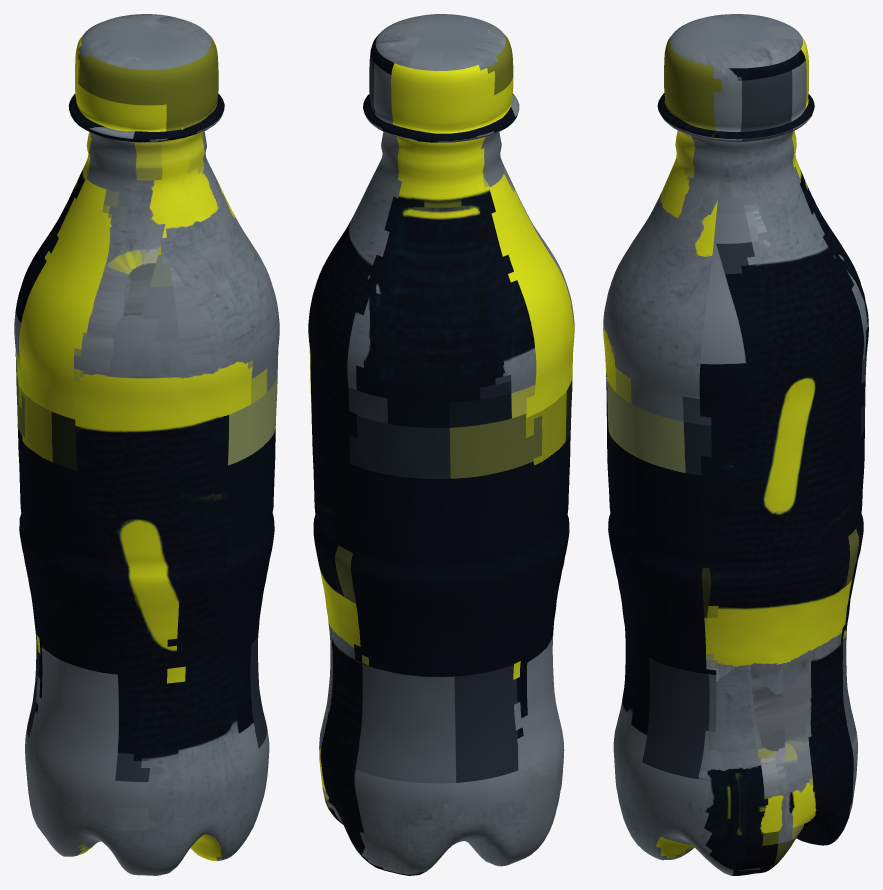
3 renders of one model, left to right at view 1: azimuth 30°, elevation 25°; view 2: azimuth 150°, elevation 25°; view 3: azimuth 270°, elevation 25°, orthographic.
Size of the model in its own units: 0.5712 by 1.89 by 0.5709.
